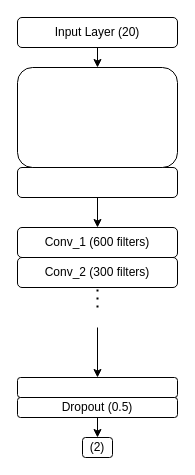
Some shapes in this 195 by 475 pixel diagram are drawn without their labels. Here are the shapes that lost their labels. From the top down, the box of each, then its label:
(16, 66, 178, 168): Embedding Layer (90000x200)
(16, 166, 178, 198): Dropout (0.4)
(16, 376, 178, 398): Dense (600)
